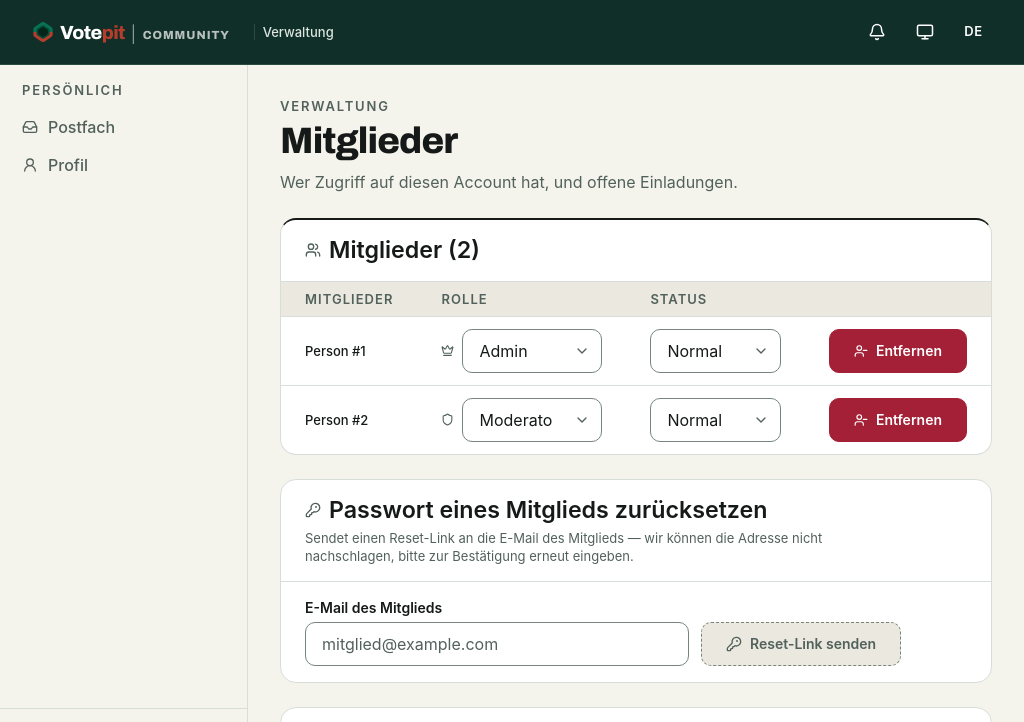
it: MembersPage — remove member › does nothing if the confirm dialog is dismissed
The image size is (1024, 722).
Click the button with aria-label "Person #2 entfernen" at (898, 420), box x1=829 y1=398 x2=967 y2=442
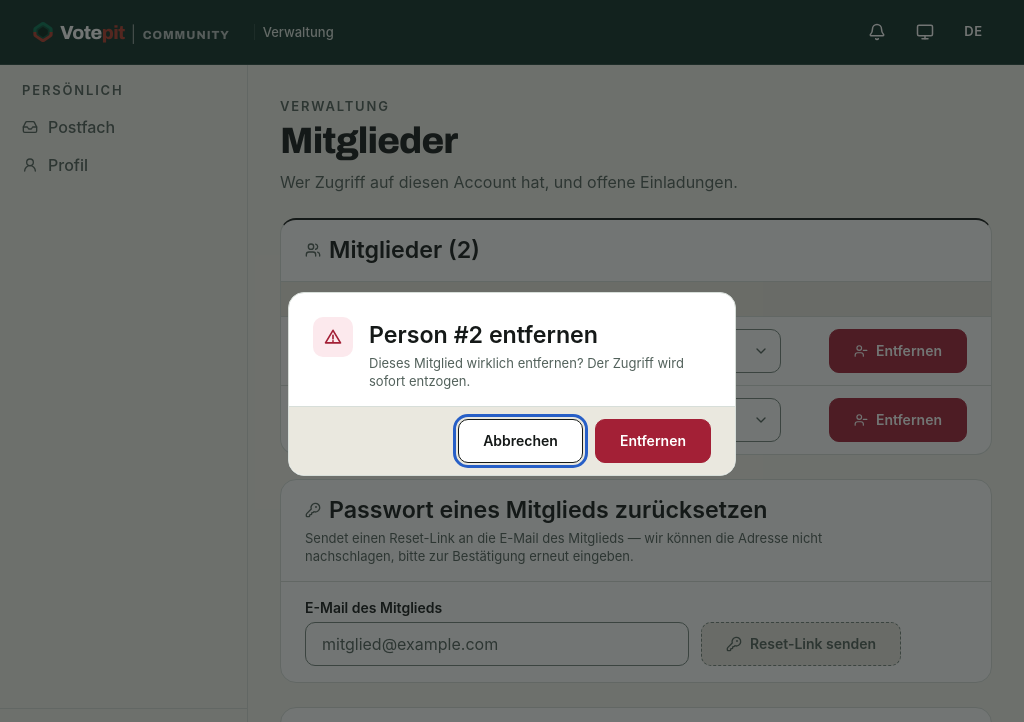
Click the button "Abbrechen" at (521, 441), box x1=458 y1=419 x2=583 y2=463
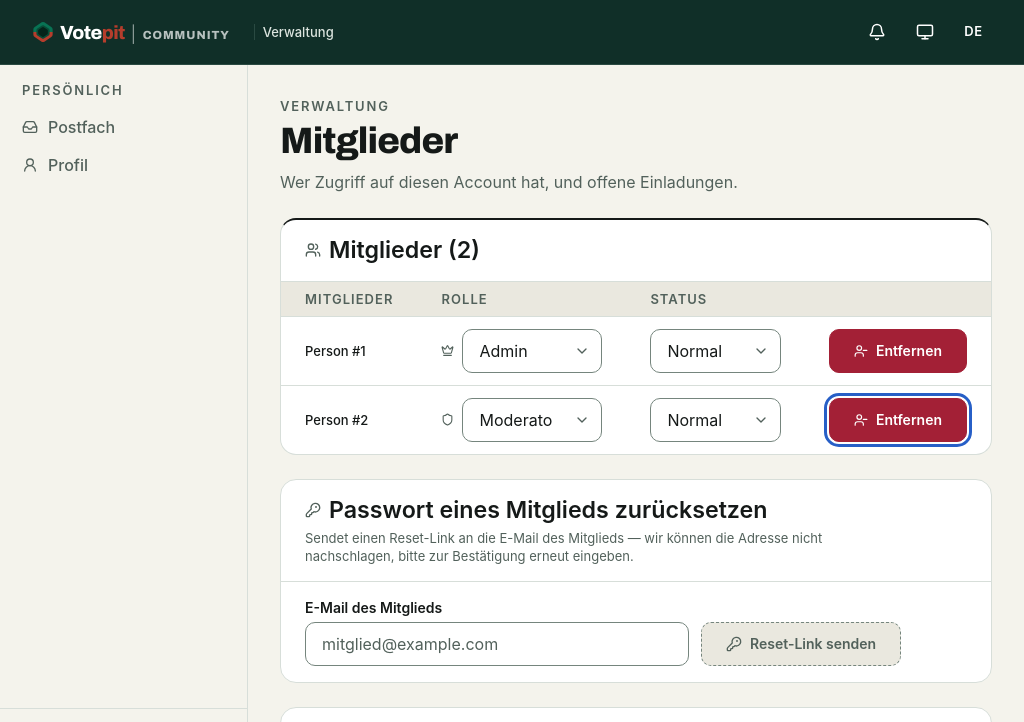
Check: the text "Person #2" is shown, box x1=305 y1=412 x2=368 y2=428
Check: the dialog is gone
